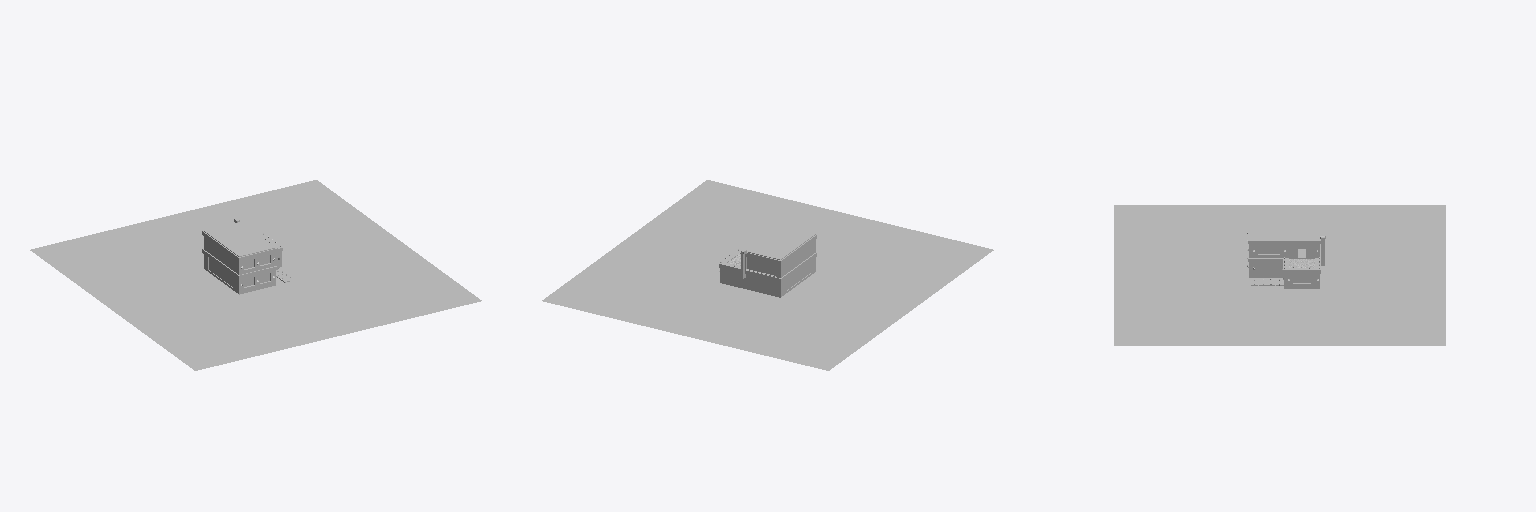
File: house.obj
3 renders of one model, left to right at view 1: azimuth 30°, elevation 25°; view 2: azimuth 150°, elevation 25°; view 3: azimuth 270°, elevation 25°, orthographic.
Parts seen in each view (by area): view 1: _43, _57; view 2: _43, _57; view 3: _43, _57.
Boxes of the visible parts, <box> form: _43: <box>30,180,481,370</box>; _57: <box>202,222,290,294</box>; _43: <box>542,180,993,370</box>; _57: <box>719,225,816,297</box>; _43: <box>1114,205,1445,345</box>; _57: <box>1248,222,1320,288</box>.
Bounding box in the file's own units: 63.01 × 8.49 × 63.01.